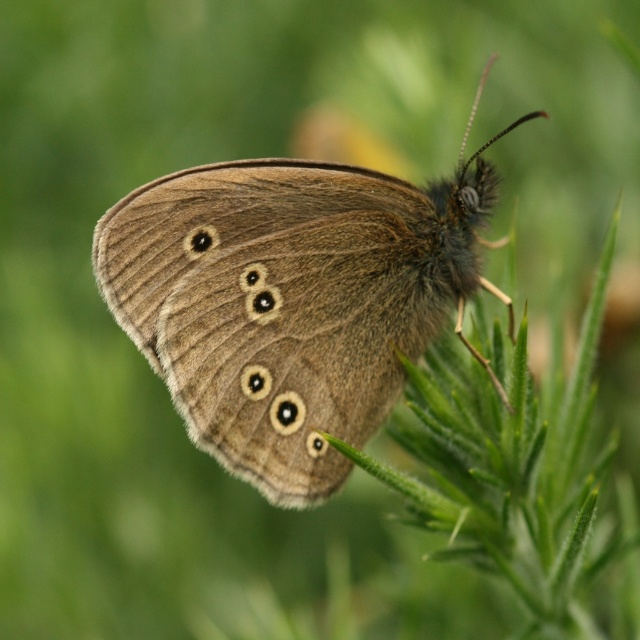Butterfly: (82, 52, 548, 513)
